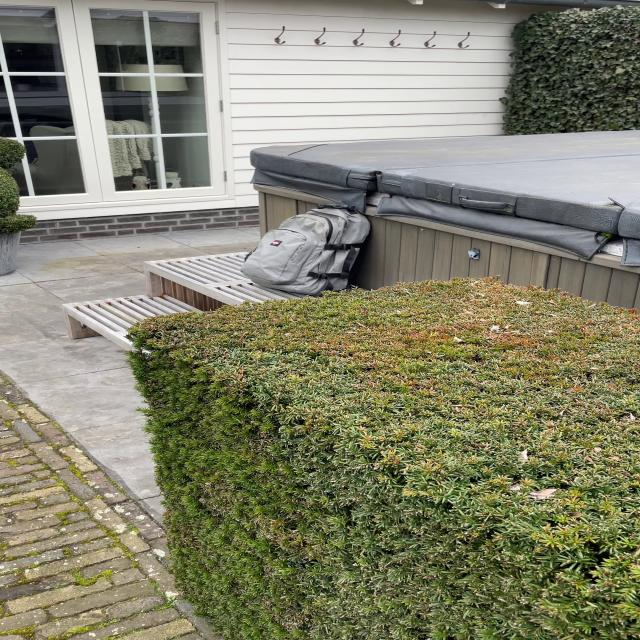backpack: (236, 202, 376, 300)
